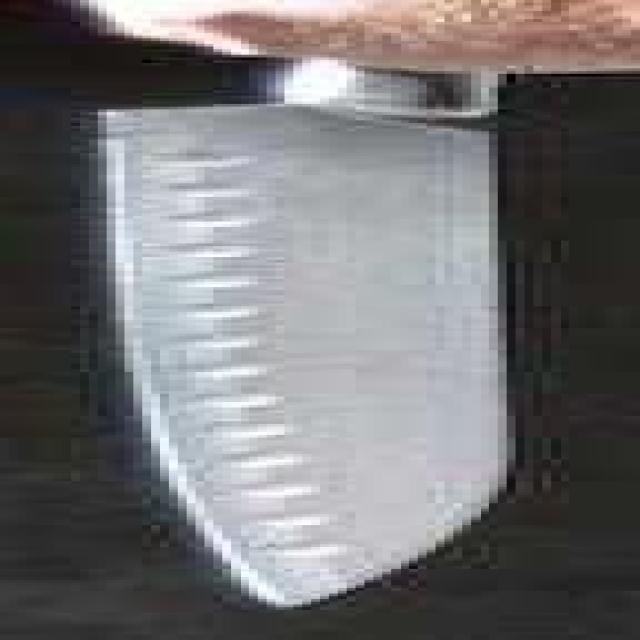Knife: (62, 0, 551, 618)
